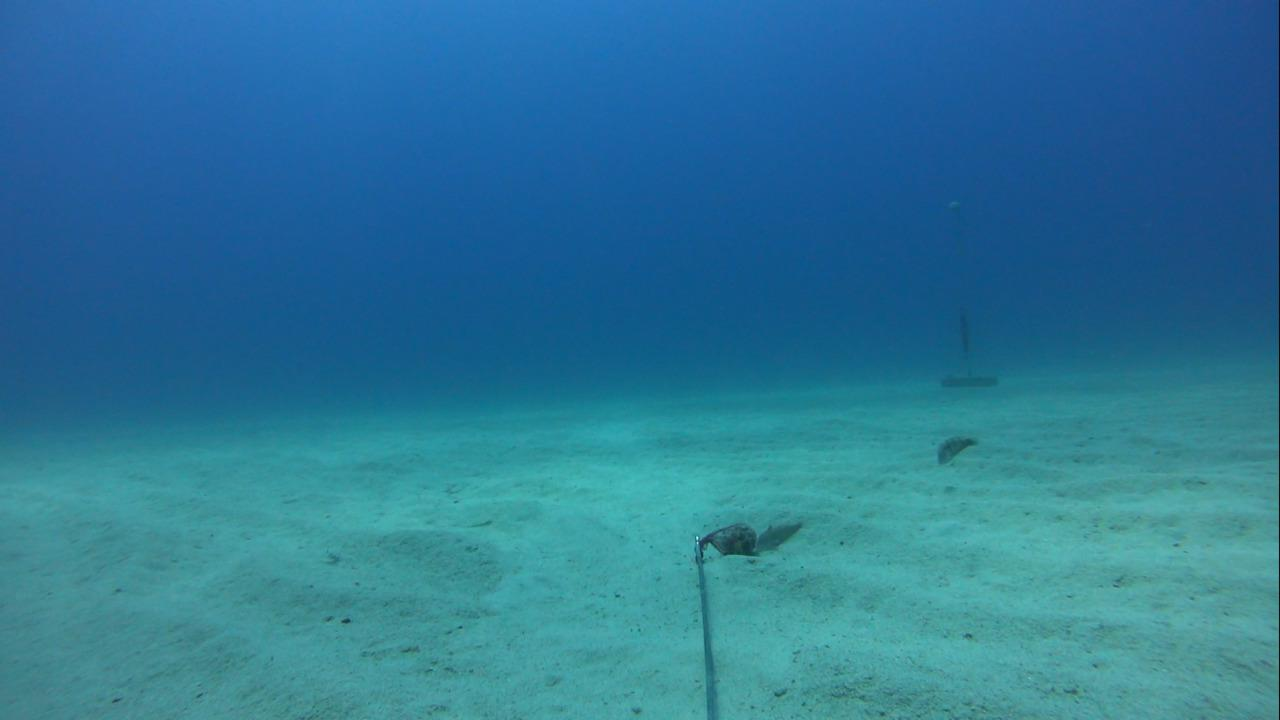raor: (928, 424, 990, 475)
